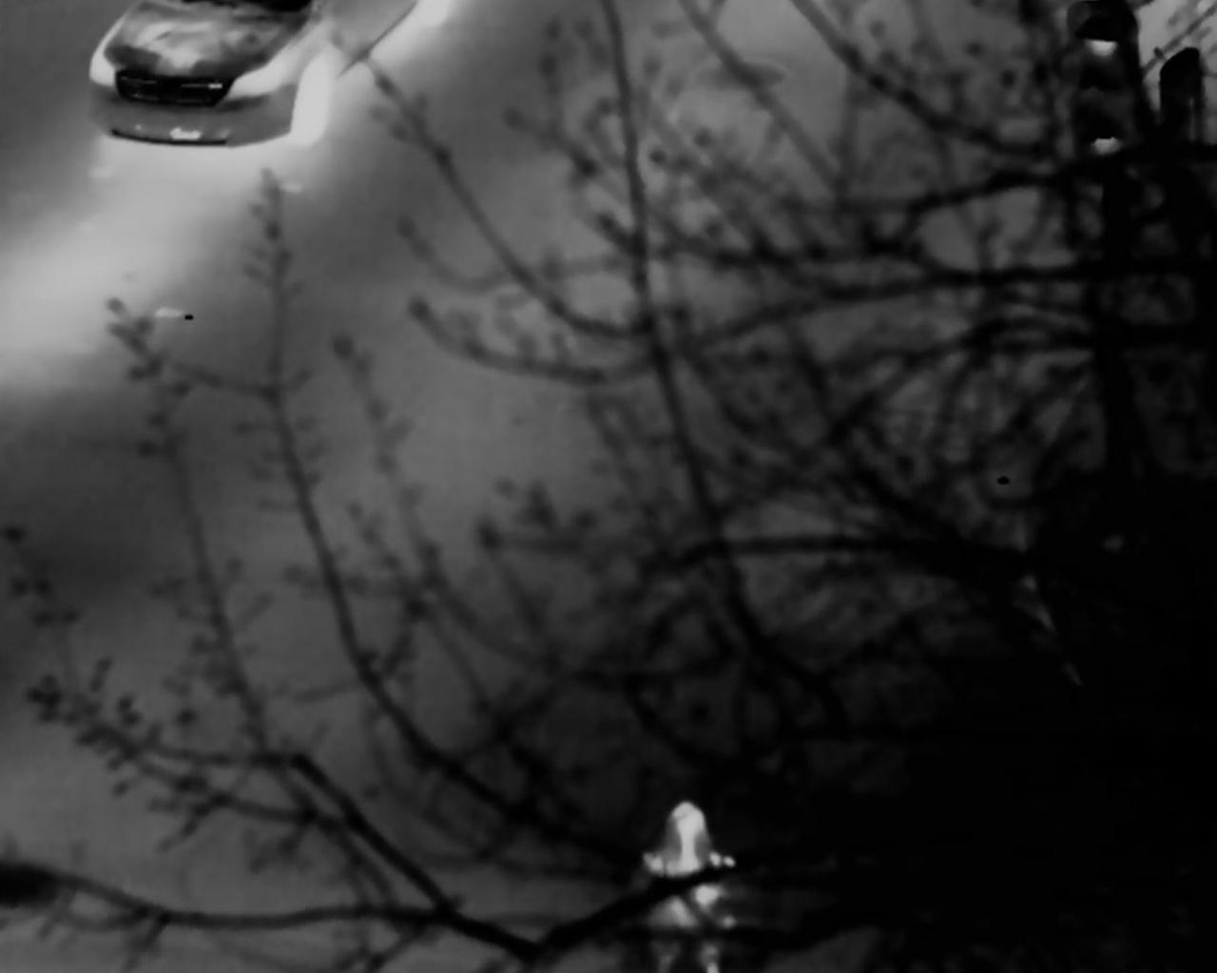person: (650, 802, 741, 955)
